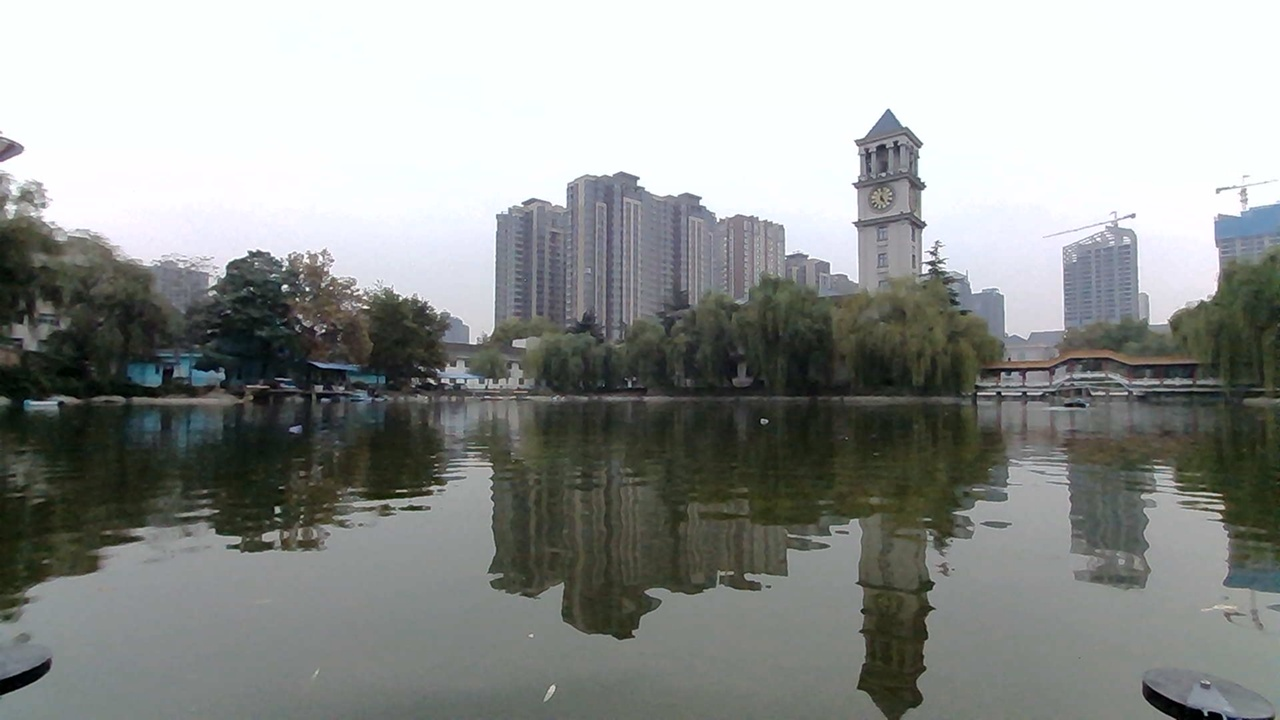bottle: (274, 407, 323, 444), (745, 405, 788, 434)
